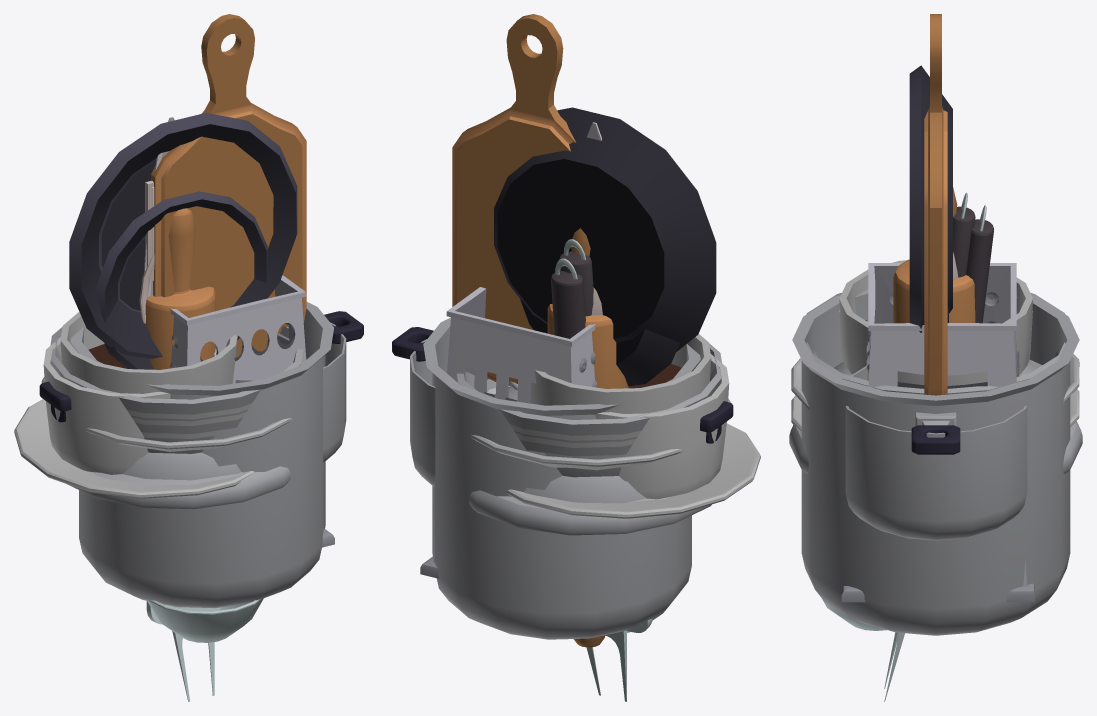
Rendered from kitshen items.fbx.
3 renders of one model, left to right at view 1: azimuth 30°, elevation 25°; view 2: azimuth 150°, elevation 25°; view 3: azimuth 270°, elevation 25°, orthographic. The views are drawn at different scales.
Parts seen in each view (by area): view 1: pan, board, Big frying pan, a mug1, grater, a mug2, small frying pan, pot lid, bowl1, rolling pin, ladle, pan_small (+3 smaller); view 2: pan, Big frying pan, board, a mug1, grater, a mug2, pot lid, bowl1, pan_small, small frying pan, rolling pin, ladle (+3 smaller); view 3: pan, pan_small, grater, board, Big frying pan, a mug1, ladle, rolling pin, bowl1, pot lid, Spatula for frying, bowl2.
Boxes of the visible parts, left/top/right/bottom form: pan: left=39, top=302, right=363, bottom=608; board: left=151, top=14, right=306, bottom=356; Big frying pan: left=69, top=112, right=297, bottom=358; a mug1: left=14, top=312, right=254, bottom=498; grater: left=170, top=275, right=334, bottom=547; a mug2: left=43, top=337, right=216, bottom=474; small frying pan: left=96, top=191, right=267, bottom=369; pot lid: left=67, top=379, right=290, bottom=509; bowl1: left=50, top=327, right=303, bottom=453; rolling pin: left=145, top=208, right=215, bottom=369; ladle: left=147, top=598, right=263, bottom=642; pan_small: left=51, top=322, right=346, bottom=462; pan: left=392, top=317, right=733, bottom=639; Big frying pan: left=494, top=107, right=716, bottom=351; board: left=452, top=14, right=576, bottom=385; a mug1: left=506, top=334, right=760, bottom=518; grater: left=420, top=287, right=597, bottom=578; a mug2: left=595, top=354, right=729, bottom=499; pot lid: left=469, top=386, right=724, bottom=535; bowl1: left=457, top=343, right=721, bottom=477; pan_small: left=410, top=339, right=721, bottom=486; small frying pan: left=520, top=298, right=679, bottom=386; rolling pin: left=547, top=228, right=629, bottom=647; ladle: left=550, top=258, right=662, bottom=632; pan: left=792, top=289, right=1079, bottom=635; pan_small: left=845, top=366, right=1027, bottom=540; grater: left=841, top=263, right=1034, bottom=602; board: left=924, top=14, right=947, bottom=395; Big frying pan: left=909, top=65, right=952, bottom=332; a mug1: left=791, top=260, right=1079, bottom=430; ladle: left=822, top=205, right=993, bottom=630; rolling pin: left=893, top=187, right=975, bottom=323; bowl1: left=806, top=292, right=1065, bottom=394; pot lid: left=789, top=362, right=1082, bottom=473; Spatula for frying: left=953, top=192, right=975, bottom=277; bowl2: left=791, top=354, right=1079, bottom=409.
Bounding box in the file's own units: 1.1 × 2.14 × 0.8065.
